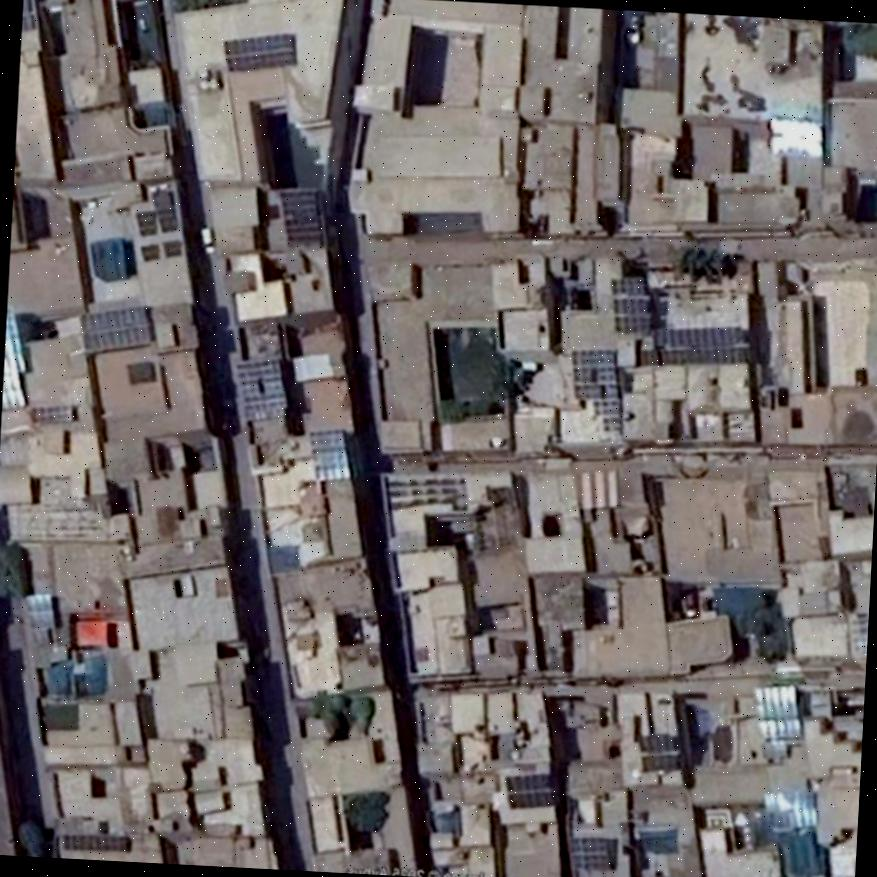Solarpanel: (80, 307, 150, 353), (237, 355, 286, 413), (754, 685, 802, 739), (277, 190, 323, 244), (222, 34, 292, 69), (573, 348, 621, 398), (762, 789, 820, 829), (310, 430, 350, 482), (610, 277, 647, 330), (639, 732, 680, 772), (504, 775, 556, 806), (652, 326, 739, 344), (567, 836, 608, 868), (62, 834, 128, 850), (157, 208, 179, 230), (135, 210, 155, 234)
